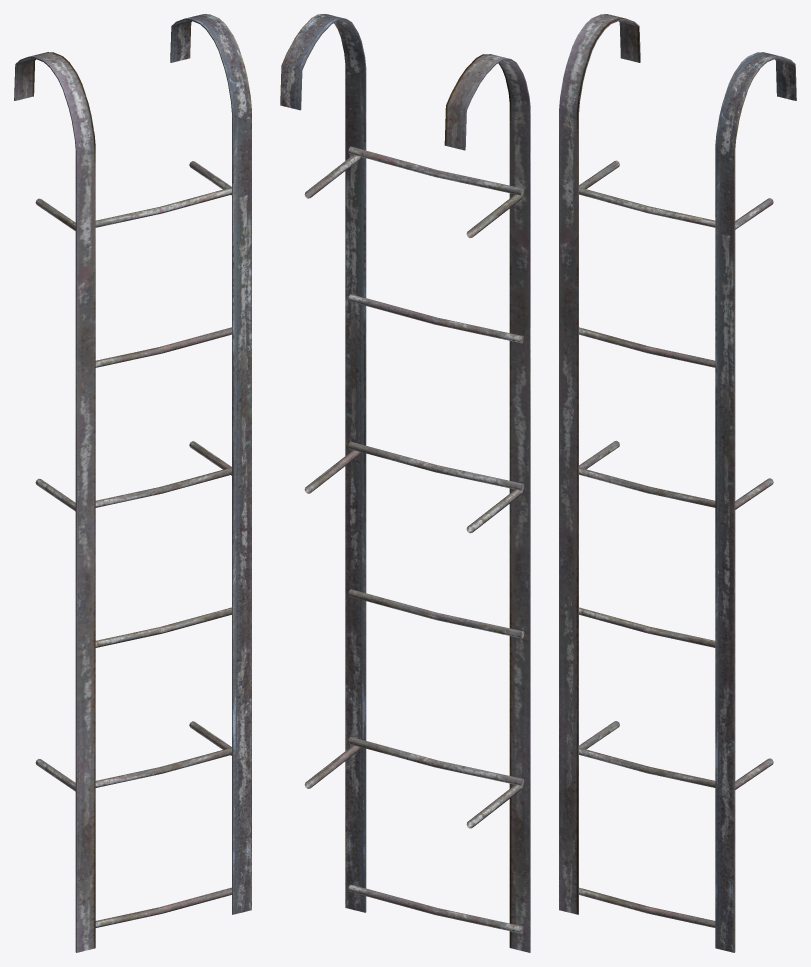
Rendered from Stairs_Metal2.FBX.
3 renders of one model, left to right at view 1: azimuth 30°, elevation 25°; view 2: azimuth 150°, elevation 25°; view 3: azimuth 330°, elevation 25°, orthographic. The views are drawn at different scales.
Visible parts, largest first — view 1: Stairs_Metal2; view 2: Stairs_Metal2; view 3: Stairs_Metal2.
Part boxes in pixels (x1,y1,x2,y2): Stairs_Metal2: [14, 14, 251, 952]; Stairs_Metal2: [280, 14, 530, 952]; Stairs_Metal2: [559, 14, 796, 952].
Bounding box in the file's own units: 58.03 × 35.82 × 275.
